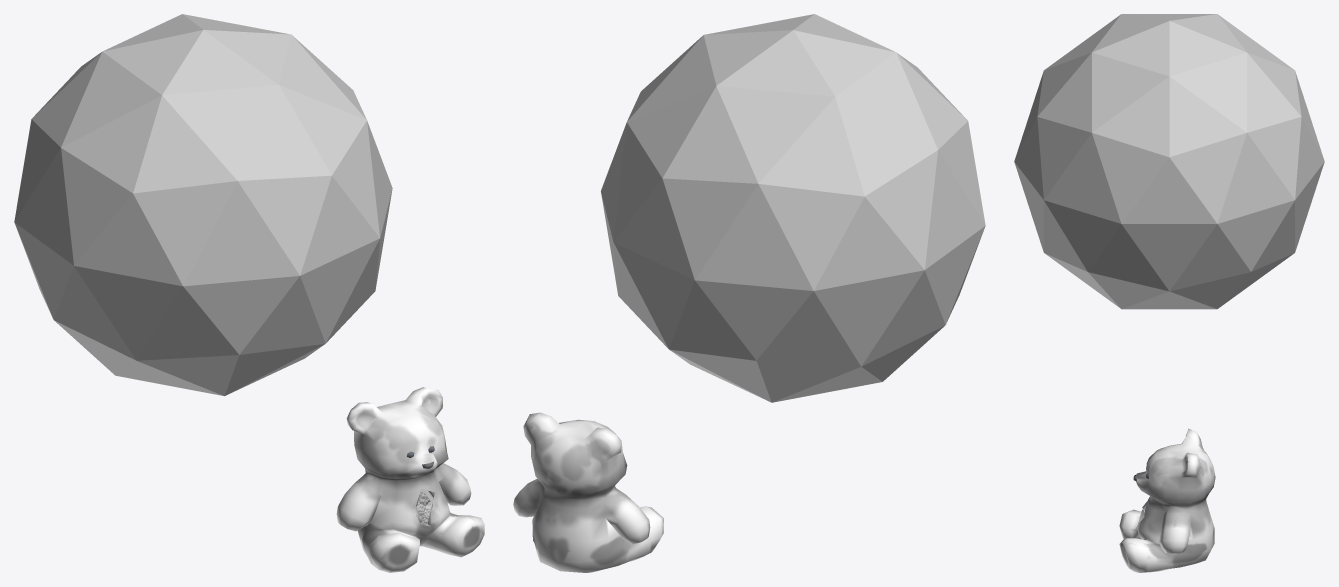
File: UrsinhoRasgado.fbx
The picture shows the model from 3 angles, left to right: view 1: azimuth 30°, elevation 25°; view 2: azimuth 150°, elevation 25°; view 3: azimuth 270°, elevation 25°; orthographic projection. The views are drawn at different scales.
Parts seen in each view (by area): view 1: Icosphere, bear; view 2: Icosphere, bear; view 3: Icosphere, bear.
Boxes of the visible parts, x1,y1,x2,y2 form: Icosphere: (14, 14, 392, 396); bear: (336, 387, 484, 572); Icosphere: (601, 14, 985, 402); bear: (513, 412, 663, 572); Icosphere: (1014, 14, 1324, 309); bear: (1119, 428, 1215, 572).
Size of the model in its own units: 125 by 158 by 97.8.
5 materials, 1 textured.
